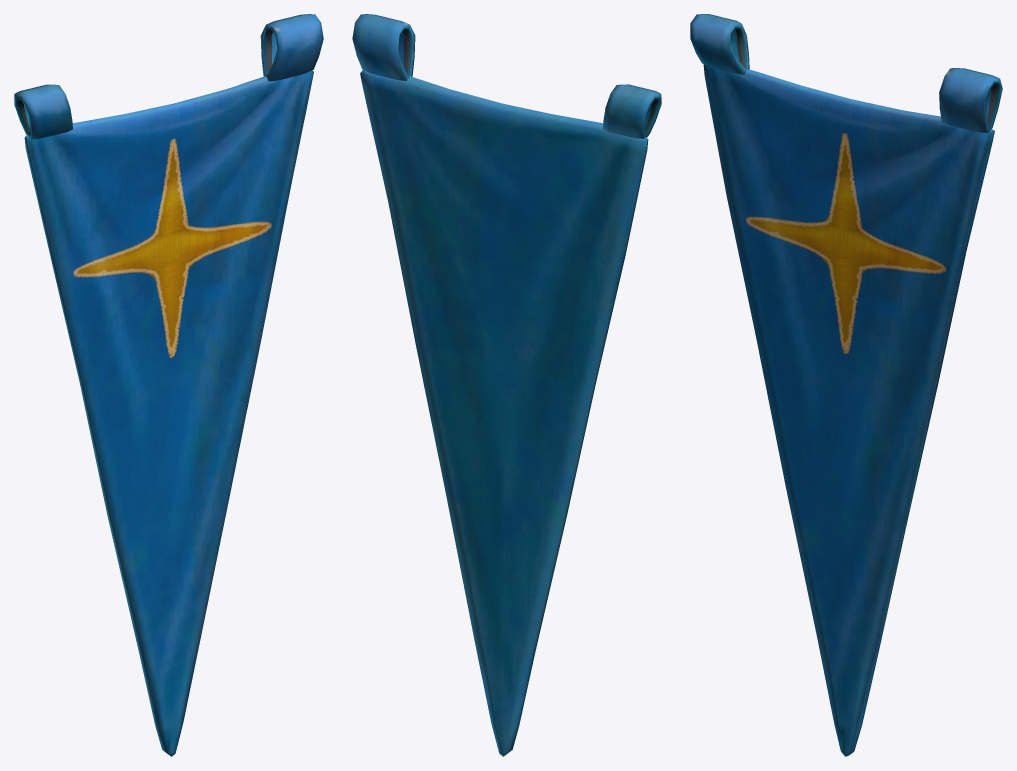
3 views of the same model, side by side, from view 1: azimuth 30°, elevation 25°; view 2: azimuth 150°, elevation 25°; view 3: azimuth 330°, elevation 25° (orthographic).
Parts seen in each view (by area): view 1: SM_Single_Banner_Saradomin_01v1_LOD0; view 2: SM_Single_Banner_Saradomin_01v1_LOD0; view 3: SM_Single_Banner_Saradomin_01v1_LOD0.
Part boxes in pixels (x1=…): SM_Single_Banner_Saradomin_01v1_LOD0: x1=14, y1=14, x2=323, y2=756; SM_Single_Banner_Saradomin_01v1_LOD0: x1=352, y1=14, x2=661, y2=756; SM_Single_Banner_Saradomin_01v1_LOD0: x1=690, y1=14, x2=1002, y2=756.
Bounding box in the file's own units: 0.8658 × 1.98 × 0.1067.
